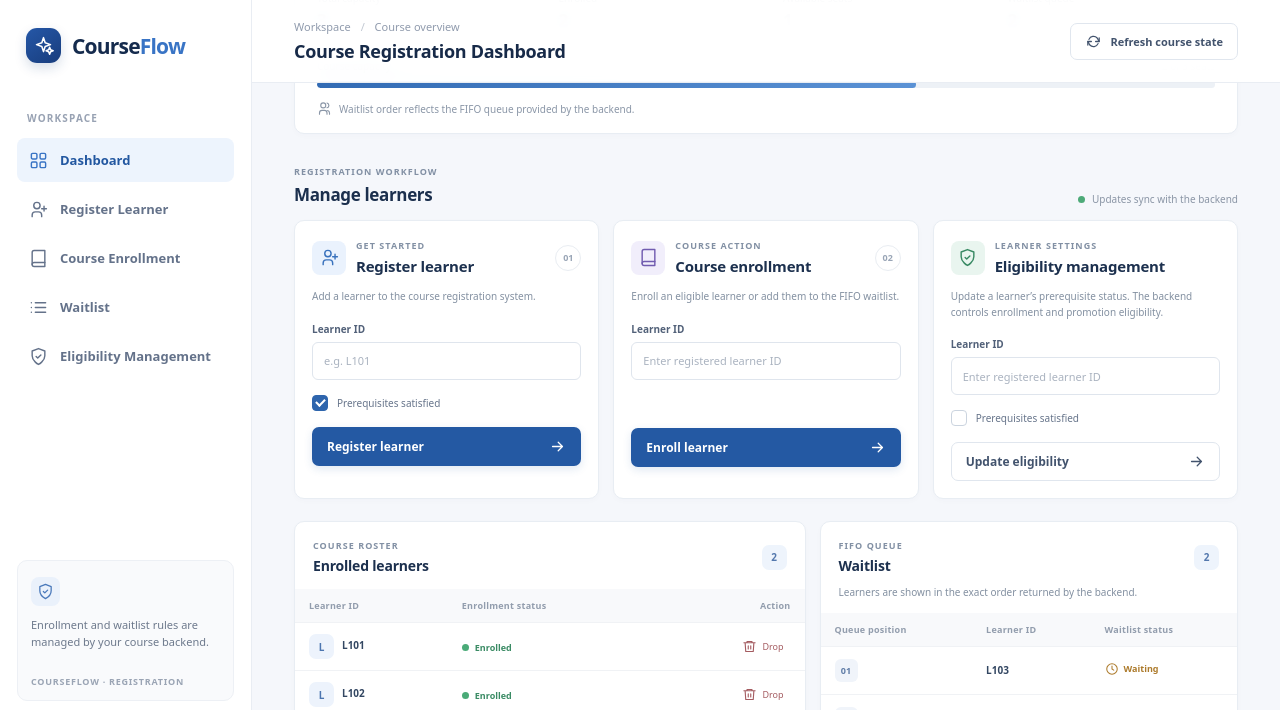
Test: CourseFlow dashboard › shows the backend duplicate-registration response
The width and height of the screenshot is (1280, 710).
(page scrolled)
Type "L101" into the field labelled "Learner ID" below "GET STARTED".
click(447, 360); type("L101")  # box [312,342,581,380]
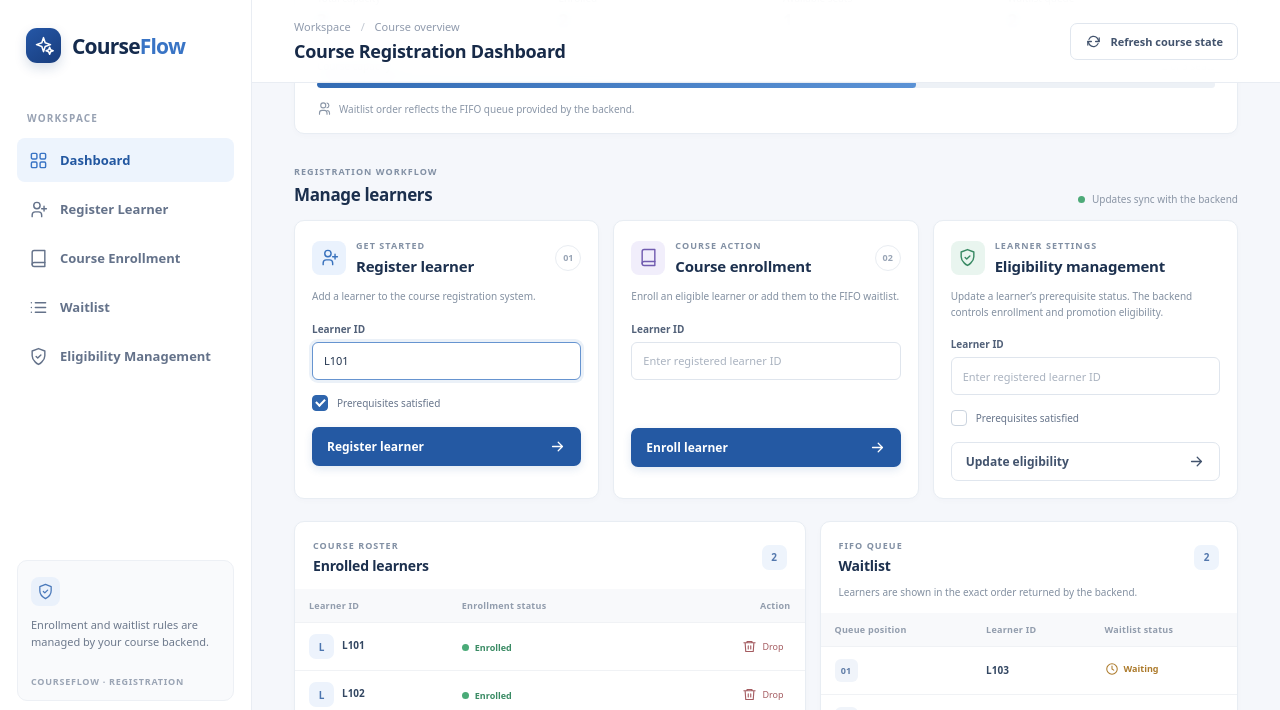
Click the button "Register learner".
click(375, 446)  # box [312,426,581,466]
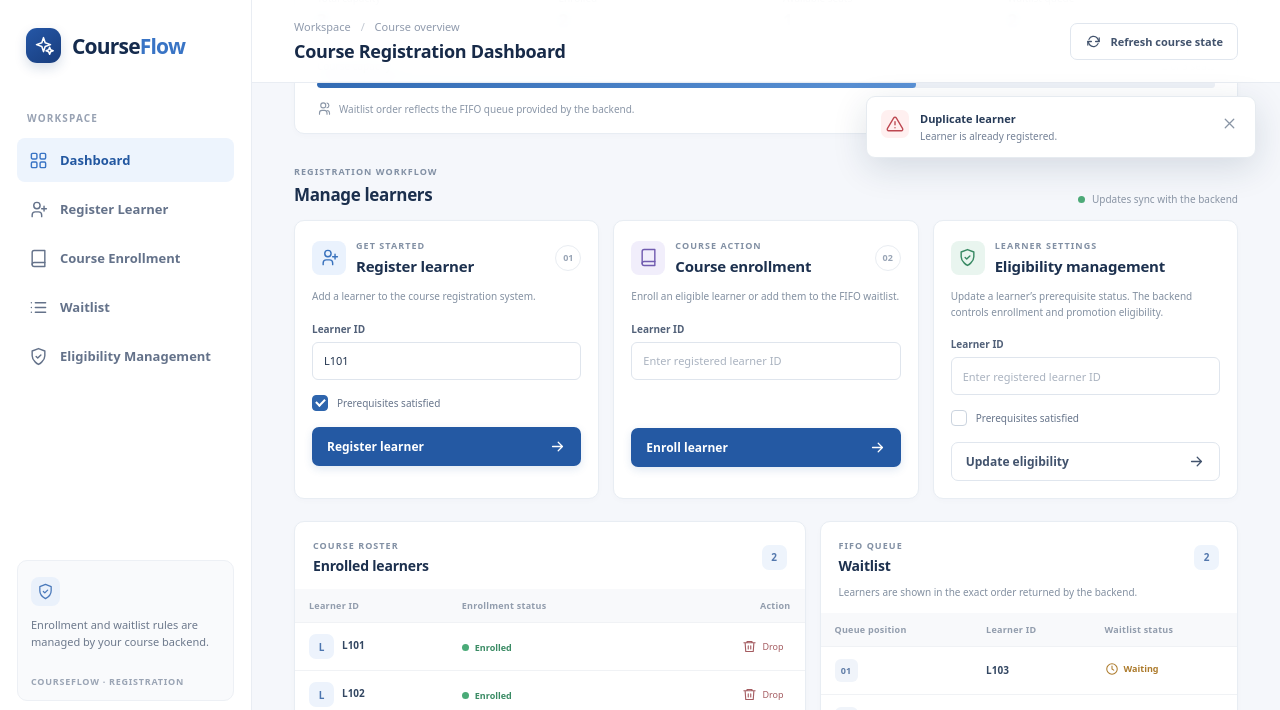
Expected: the text "Duplicate learner" is shown, [920,111,1016,126]
Expected: the text "Learner is already registered." is shown, [920,129,1057,143]
